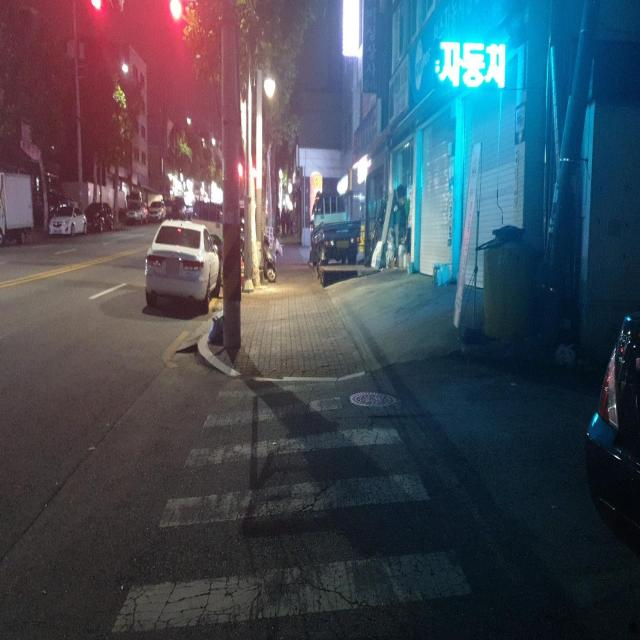횡단보도: (107, 377, 474, 638)
